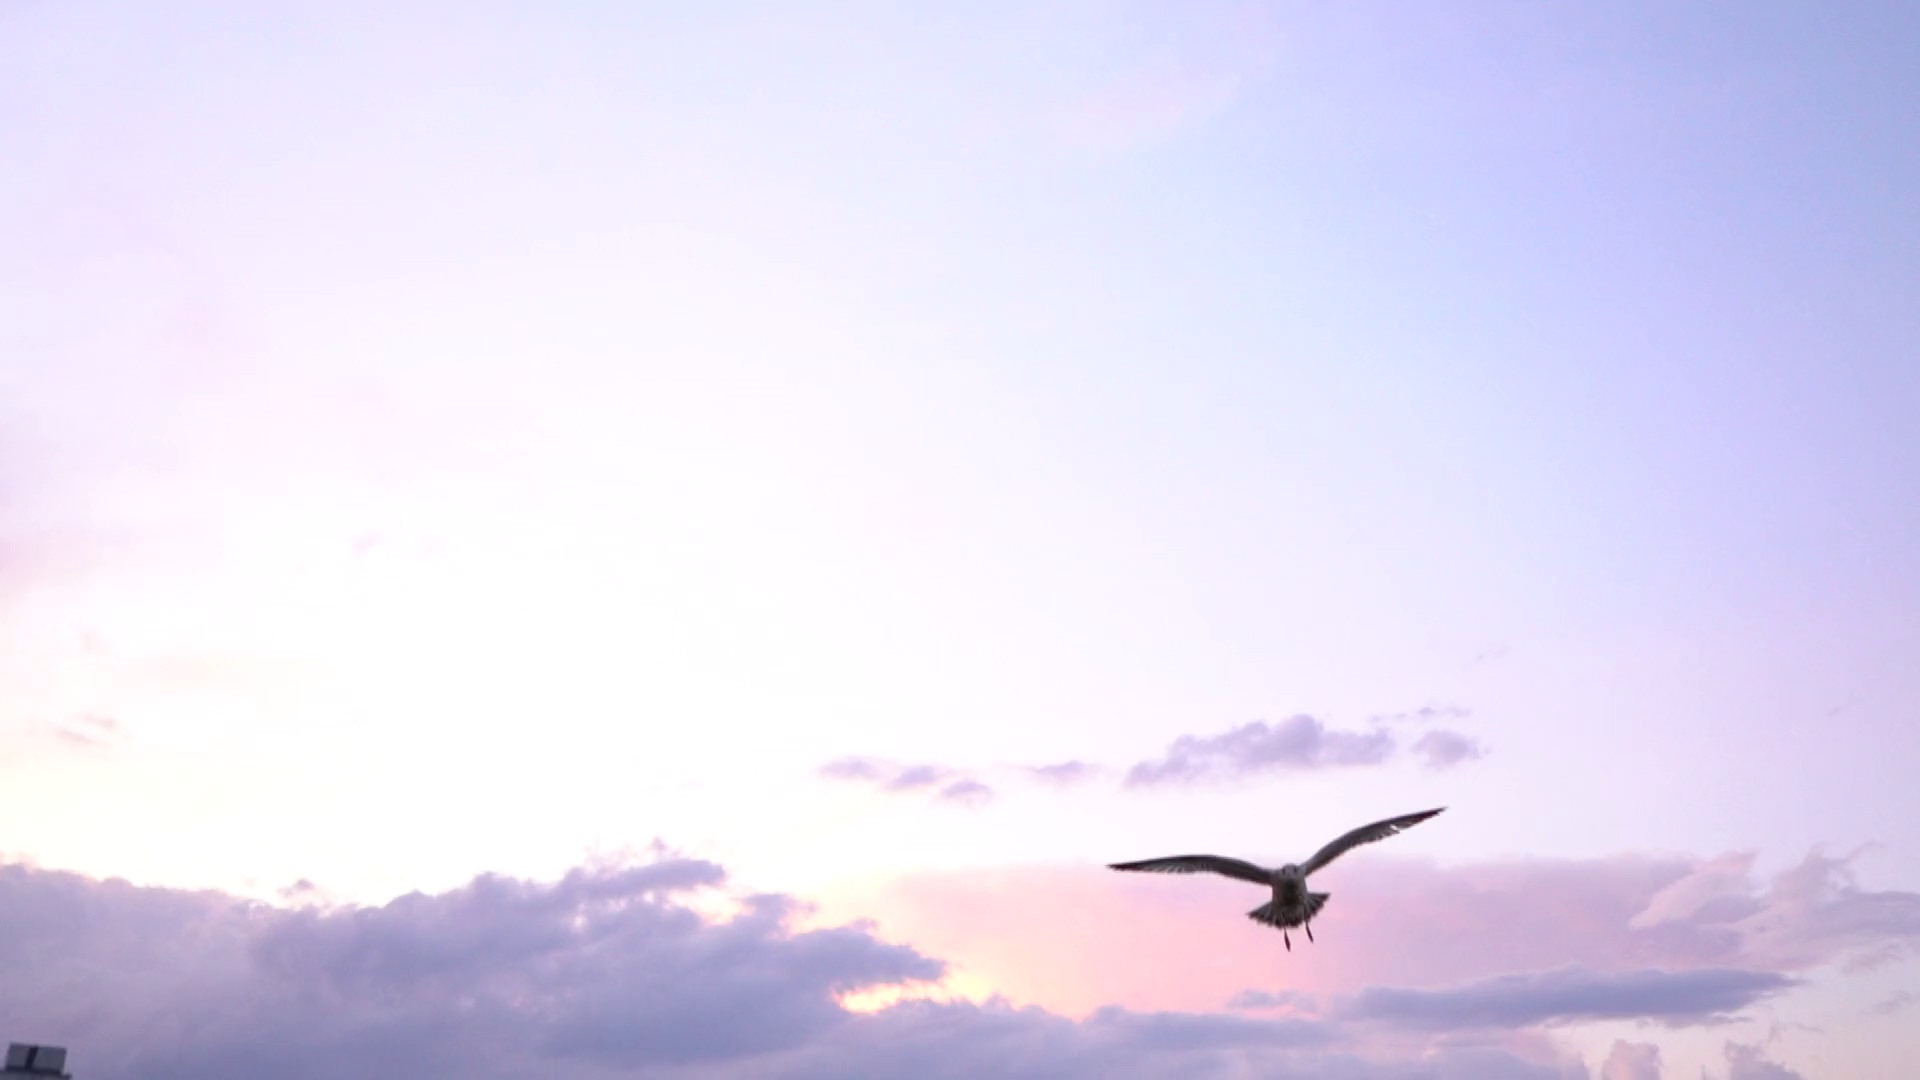bird: (1106, 804, 1447, 948)
